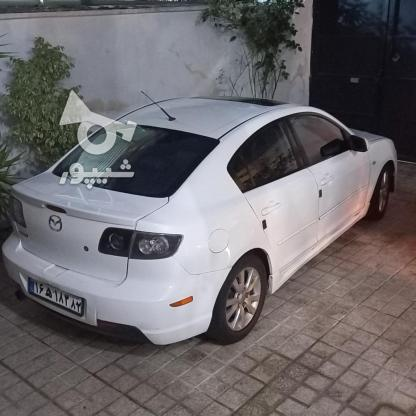car: (27, 277, 87, 318)
